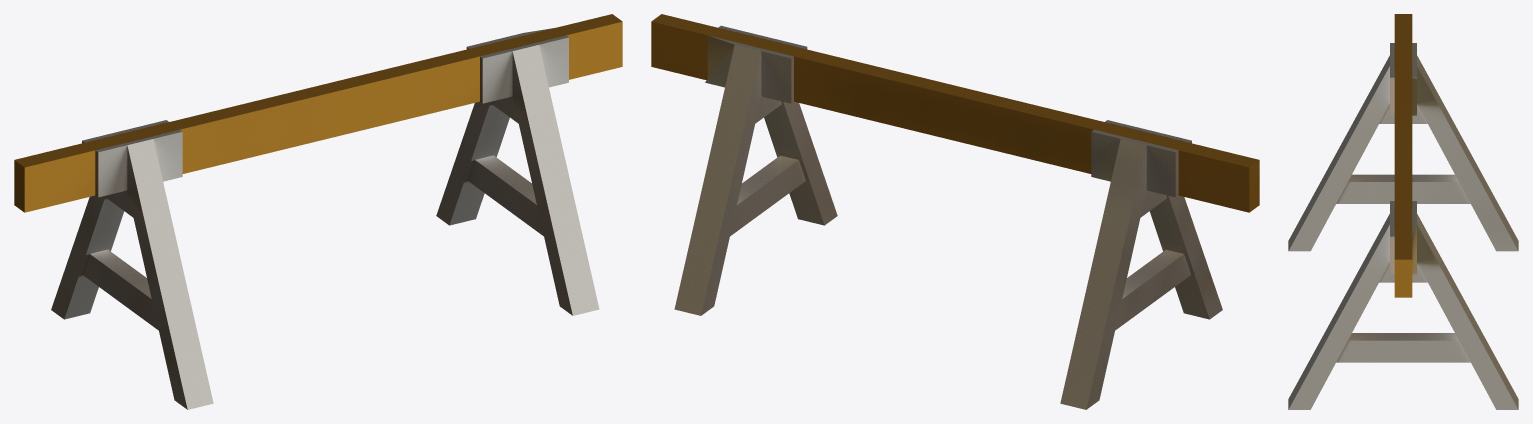
Rendered from engel1.gltf.
The picture shows the model from 3 angles, left to right: view 1: azimuth 30°, elevation 25°; view 2: azimuth 150°, elevation 25°; view 3: azimuth 270°, elevation 25°; orthographic projection. The views are drawn at different scales.
Parts seen in each view (by area): view 1: kw_barriers_stand_white2.002; view 2: kw_barriers_stand_white2.002; view 3: kw_barriers_stand_white2.002.
Part boxes in pixels (x1=…): kw_barriers_stand_white2.002: x1=14, y1=14, x2=622, y2=409; kw_barriers_stand_white2.002: x1=651, y1=14, x2=1259, y2=409; kw_barriers_stand_white2.002: x1=1288, y1=14, x2=1518, y2=409.
Size of the model in its own units: 4.63 by 1.63 by 1.83.
Materials: 1 (1 with a texture image).
